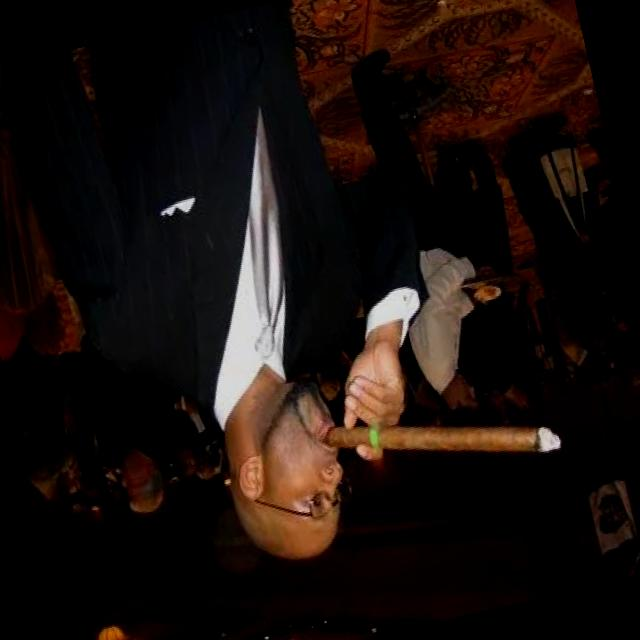smoke: (314, 366, 574, 516)
